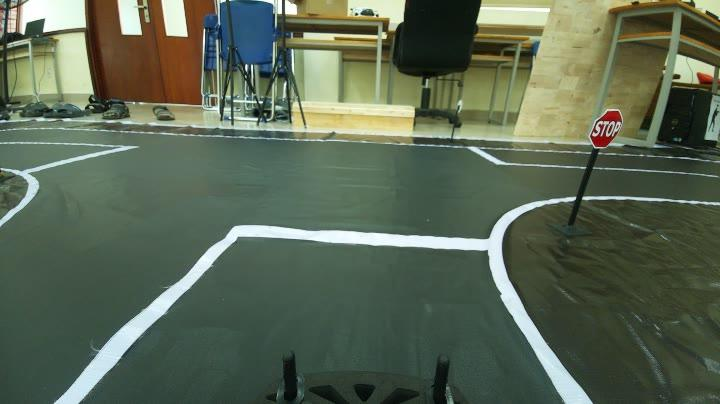stop: (584, 104, 628, 156)
